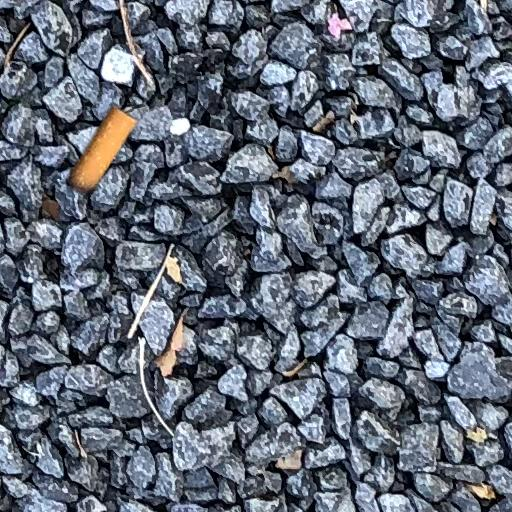smoke: (67, 107, 136, 192)
